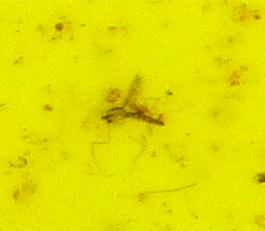Nematocera: (100, 100, 165, 131)
